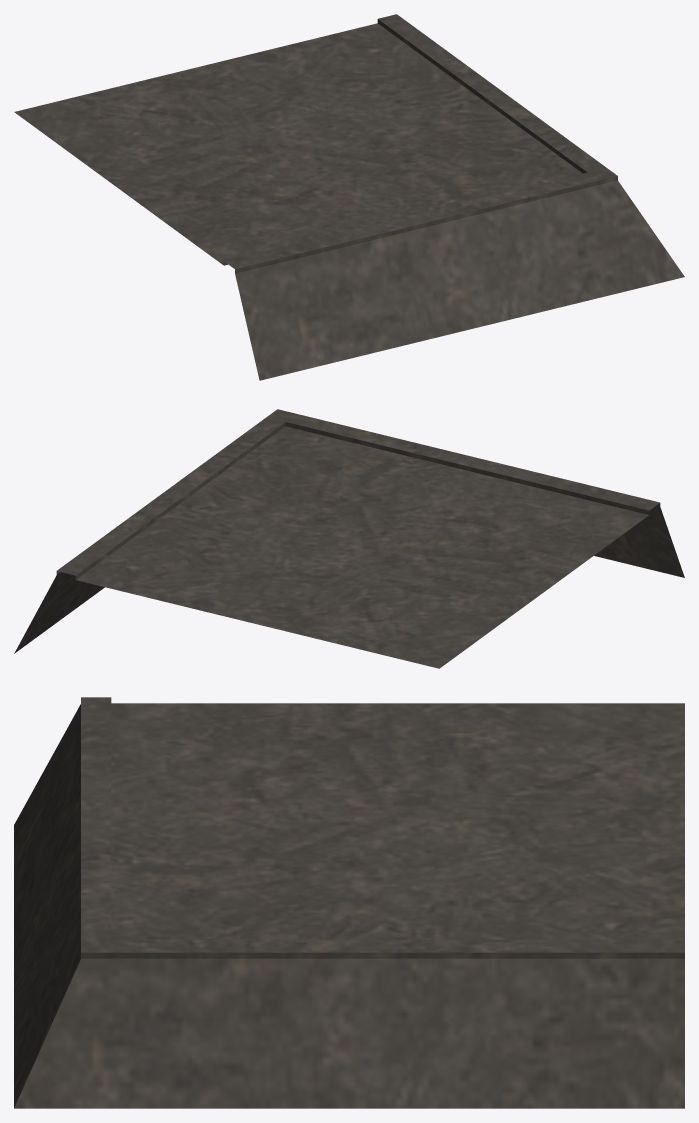
The model's file is Pavement_8.glb.
3 views of the same model, one above another, from view 1: azimuth 30°, elevation 25°; view 2: azimuth 150°, elevation 25°; view 3: azimuth 270°, elevation 25° (orthographic). The views are drawn at different scales.
Visible parts, largest first — view 1: Pavement_8.001; view 2: Pavement_8.001; view 3: Pavement_8.001.
Boxes of the visible parts, x1,y1,x2,y2 form: Pavement_8.001: [14, 14, 684, 380]; Pavement_8.001: [14, 409, 684, 668]; Pavement_8.001: [14, 697, 684, 1108].
Size of the model in its own units: 1 by 0.21 by 1.
1 material, 1 textured.
